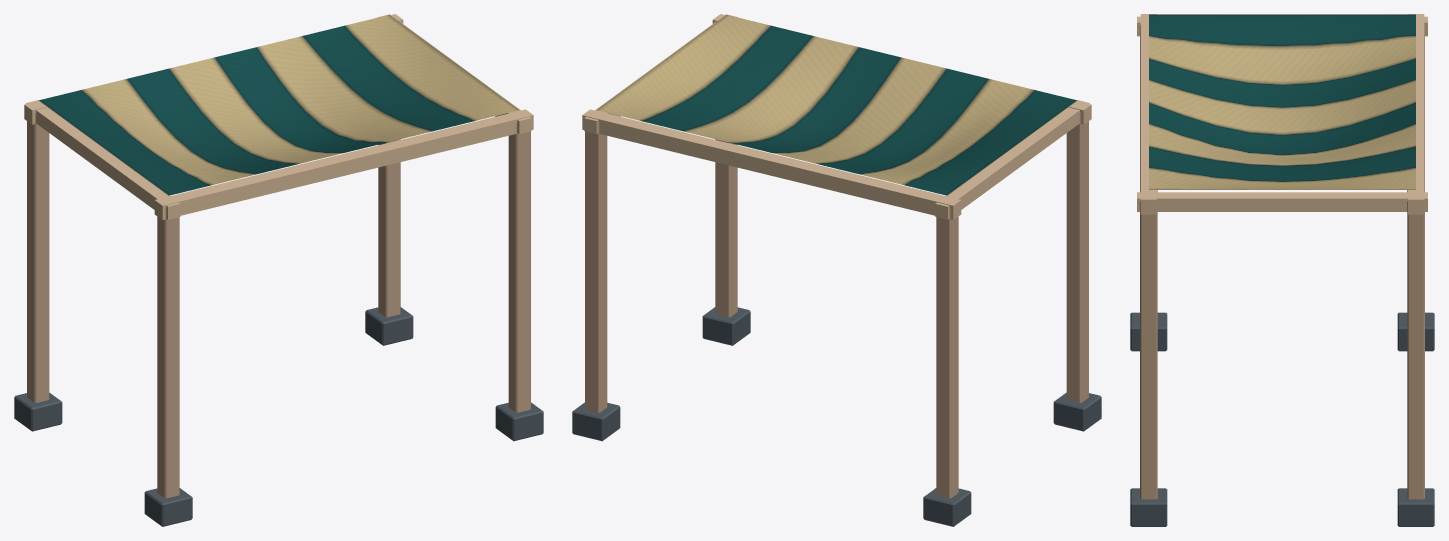
Rendered from cloth_market_canopy.glb.
3 renders of one model, left to right at view 1: azimuth 30°, elevation 25°; view 2: azimuth 150°, elevation 25°; view 3: azimuth 270°, elevation 25°, orthographic. The views are drawn at different scales.
Visible parts, largest first — view 1: cloth_market_canopy / fabric, Canopy crossbar, Canopy post, Canopy post.002, Canopy post.001, Canopy post.003, Canopy side rail, Post foot, Post foot.003, Post foot.002, Post foot.001; view 2: cloth_market_canopy / fabric, Canopy crossbar.001, Canopy post.001, Canopy post.003, Canopy post, Canopy post.002, Canopy side rail, Post foot.001, Post foot.002, Post foot.003, Post foot; view 3: cloth_market_canopy / fabric, Canopy post.002, Canopy post.003, Canopy side rail.001, Canopy crossbar, Canopy crossbar.001, Post foot.002, Post foot.003, Post foot, Post foot.001.
Boxes of the visible parts, box(x1,y1,x2,y2) form: cloth_market_canopy / fabric: box(38, 15, 519, 195); Canopy crossbar: box(154, 109, 533, 220); Canopy post: box(157, 208, 179, 498); Canopy post.002: box(508, 122, 530, 412); Canopy post.001: box(27, 112, 49, 402); Canopy post.003: box(378, 139, 400, 317); Canopy side rail: box(26, 100, 180, 219); Post foot: box(144, 488, 192, 526); Post foot.003: box(365, 307, 413, 345); Post foot.002: box(495, 402, 543, 441); Post foot.001: box(14, 392, 62, 431); cloth_market_canopy / fabric: box(596, 15, 1077, 195); Canopy crossbar.001: box(582, 109, 961, 220); Canopy post.001: box(936, 208, 958, 498); Canopy post.003: box(585, 122, 607, 412); Canopy post: box(1066, 112, 1088, 402); Canopy post.002: box(715, 139, 737, 317); Canopy side rail: box(935, 100, 1089, 219); Post foot.001: box(923, 488, 971, 526); Post foot.002: box(702, 307, 750, 345); Post foot.003: box(572, 402, 620, 441); Post foot: box(1053, 392, 1101, 431); cloth_market_canopy / fabric: box(1149, 14, 1415, 189); Canopy post.002: box(1140, 201, 1157, 499); Canopy post.003: box(1407, 201, 1424, 499); Canopy side rail.001: box(1137, 192, 1427, 211); Canopy crossbar: box(1140, 14, 1156, 214); Canopy crossbar.001: box(1408, 14, 1424, 214); Post foot.002: box(1130, 488, 1167, 526); Post foot.003: box(1397, 488, 1434, 526); Post foot: box(1130, 312, 1167, 351); Post foot.001: box(1397, 312, 1434, 351).
Size of the model in its own units: 3.05 by 2.45 by 2.05.
Materials: 4 (1 with a texture image).
